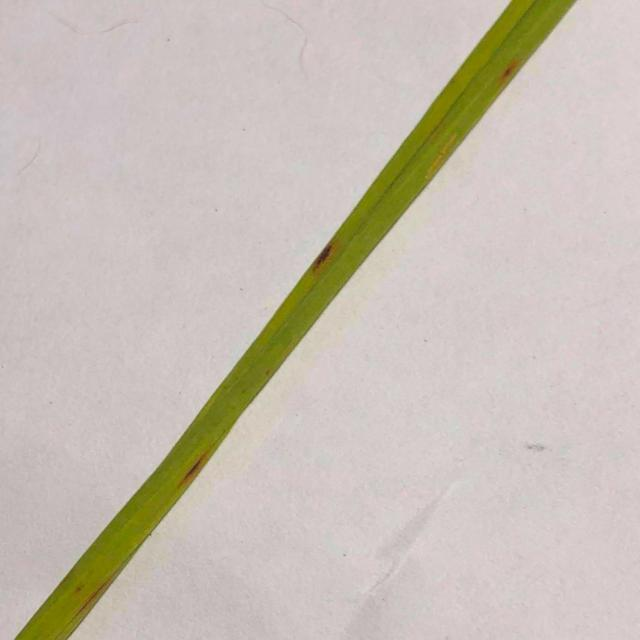brownspots: (170, 441, 214, 492), (64, 570, 114, 614), (310, 234, 348, 289), (497, 56, 518, 89)
